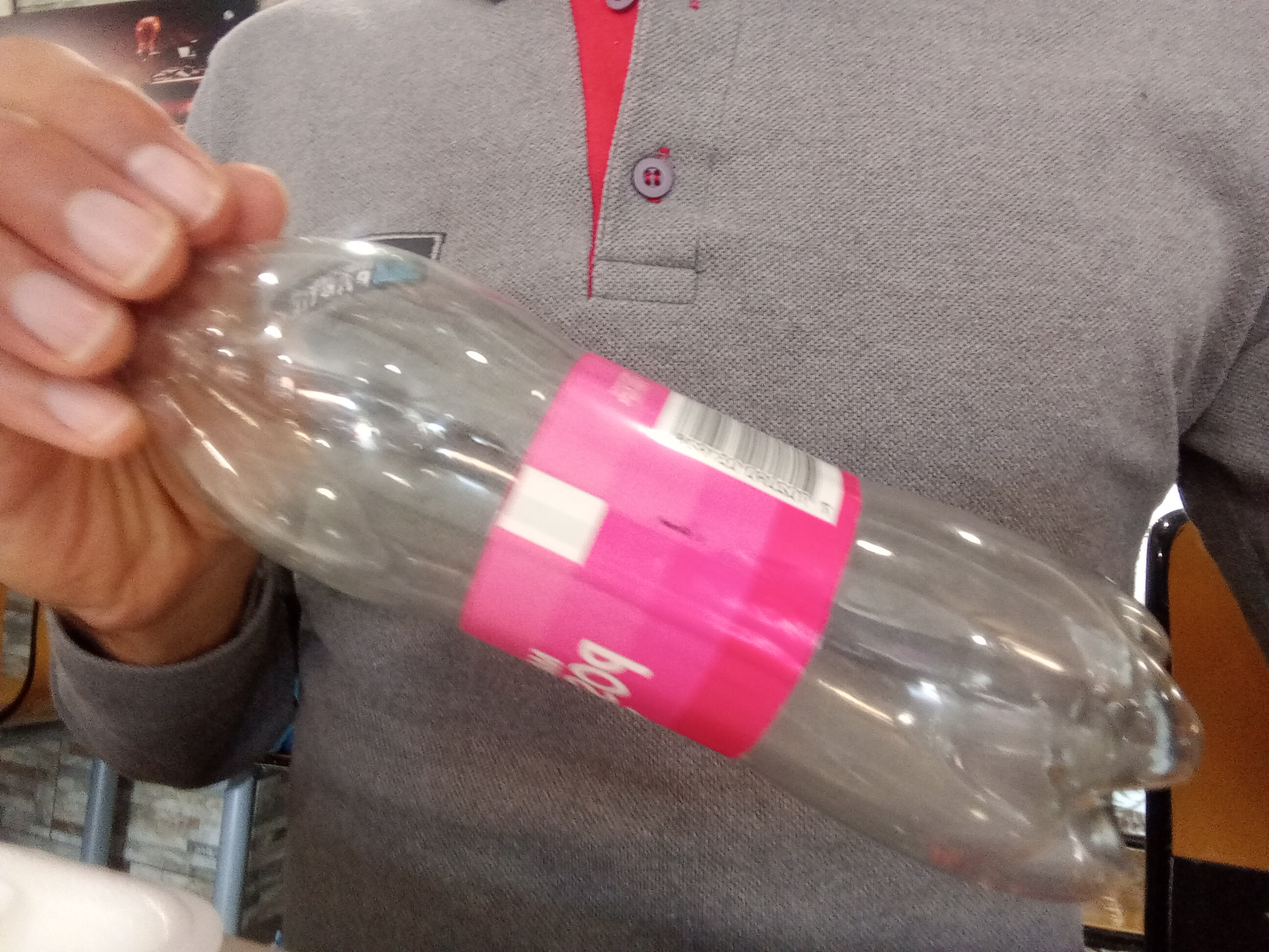Plastico: (129, 240, 1205, 900)
